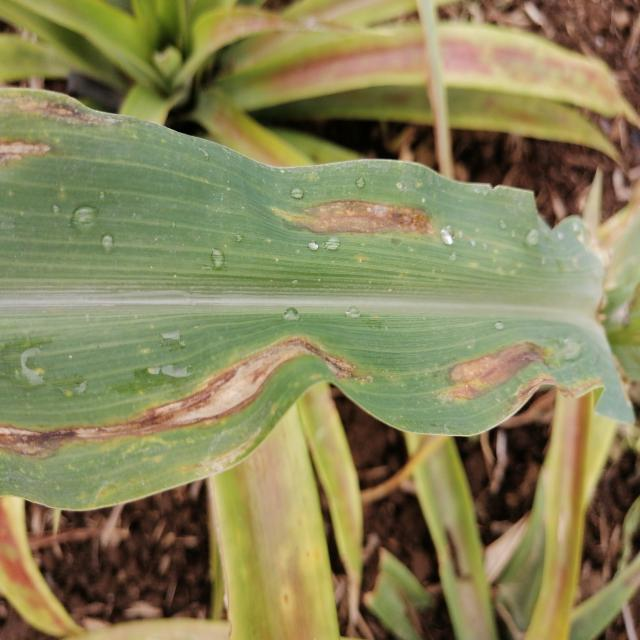Corn_Leaf_Blight: (0, 85, 640, 495)
